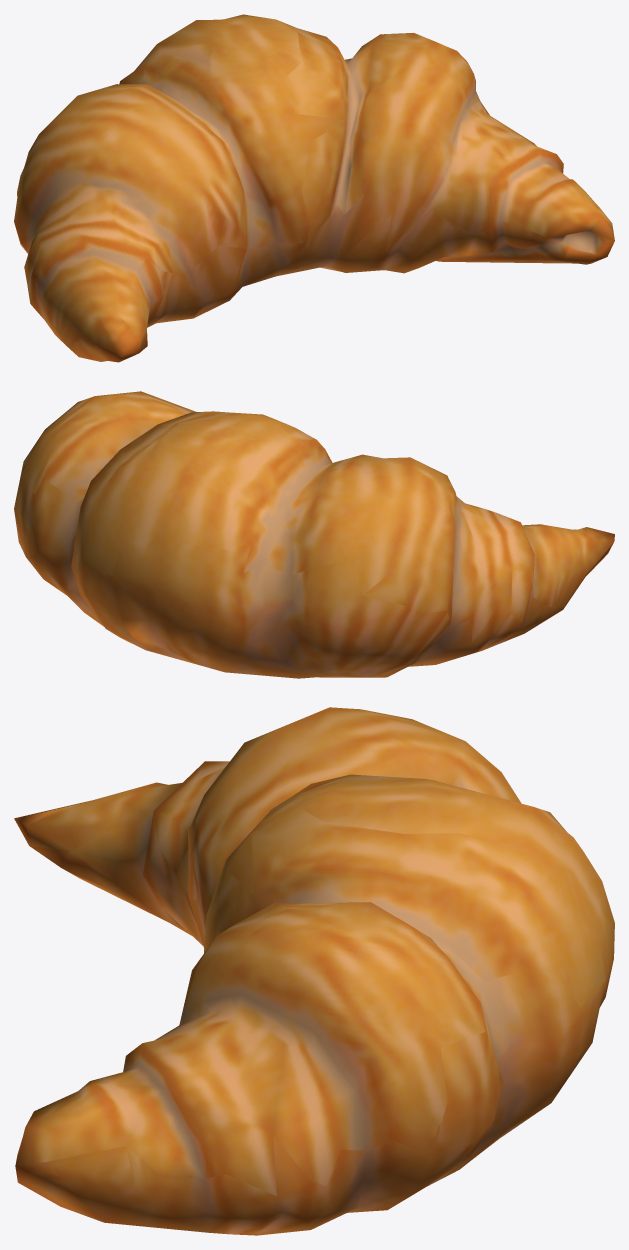
Rendered from croissant-final.glb.
3 views of the same model, one above another, from view 1: azimuth 30°, elevation 25°; view 2: azimuth 150°, elevation 25°; view 3: azimuth 270°, elevation 25° (orthographic). The views are drawn at different scales.
Parts seen in each view (by area): view 1: croissant; view 2: croissant; view 3: croissant.
Boxes of the visible parts, left/top/right/bottom form: croissant: left=14, top=14, right=614, bottom=362; croissant: left=14, top=391, right=614, bottom=678; croissant: left=14, top=707, right=614, bottom=1235.
Bounding box in the file's own units: 5.03 × 2.07 × 3.59.
Materials: 1 (1 with a texture image).
